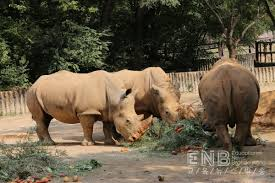Rhinoceros: (23, 63, 154, 151)
